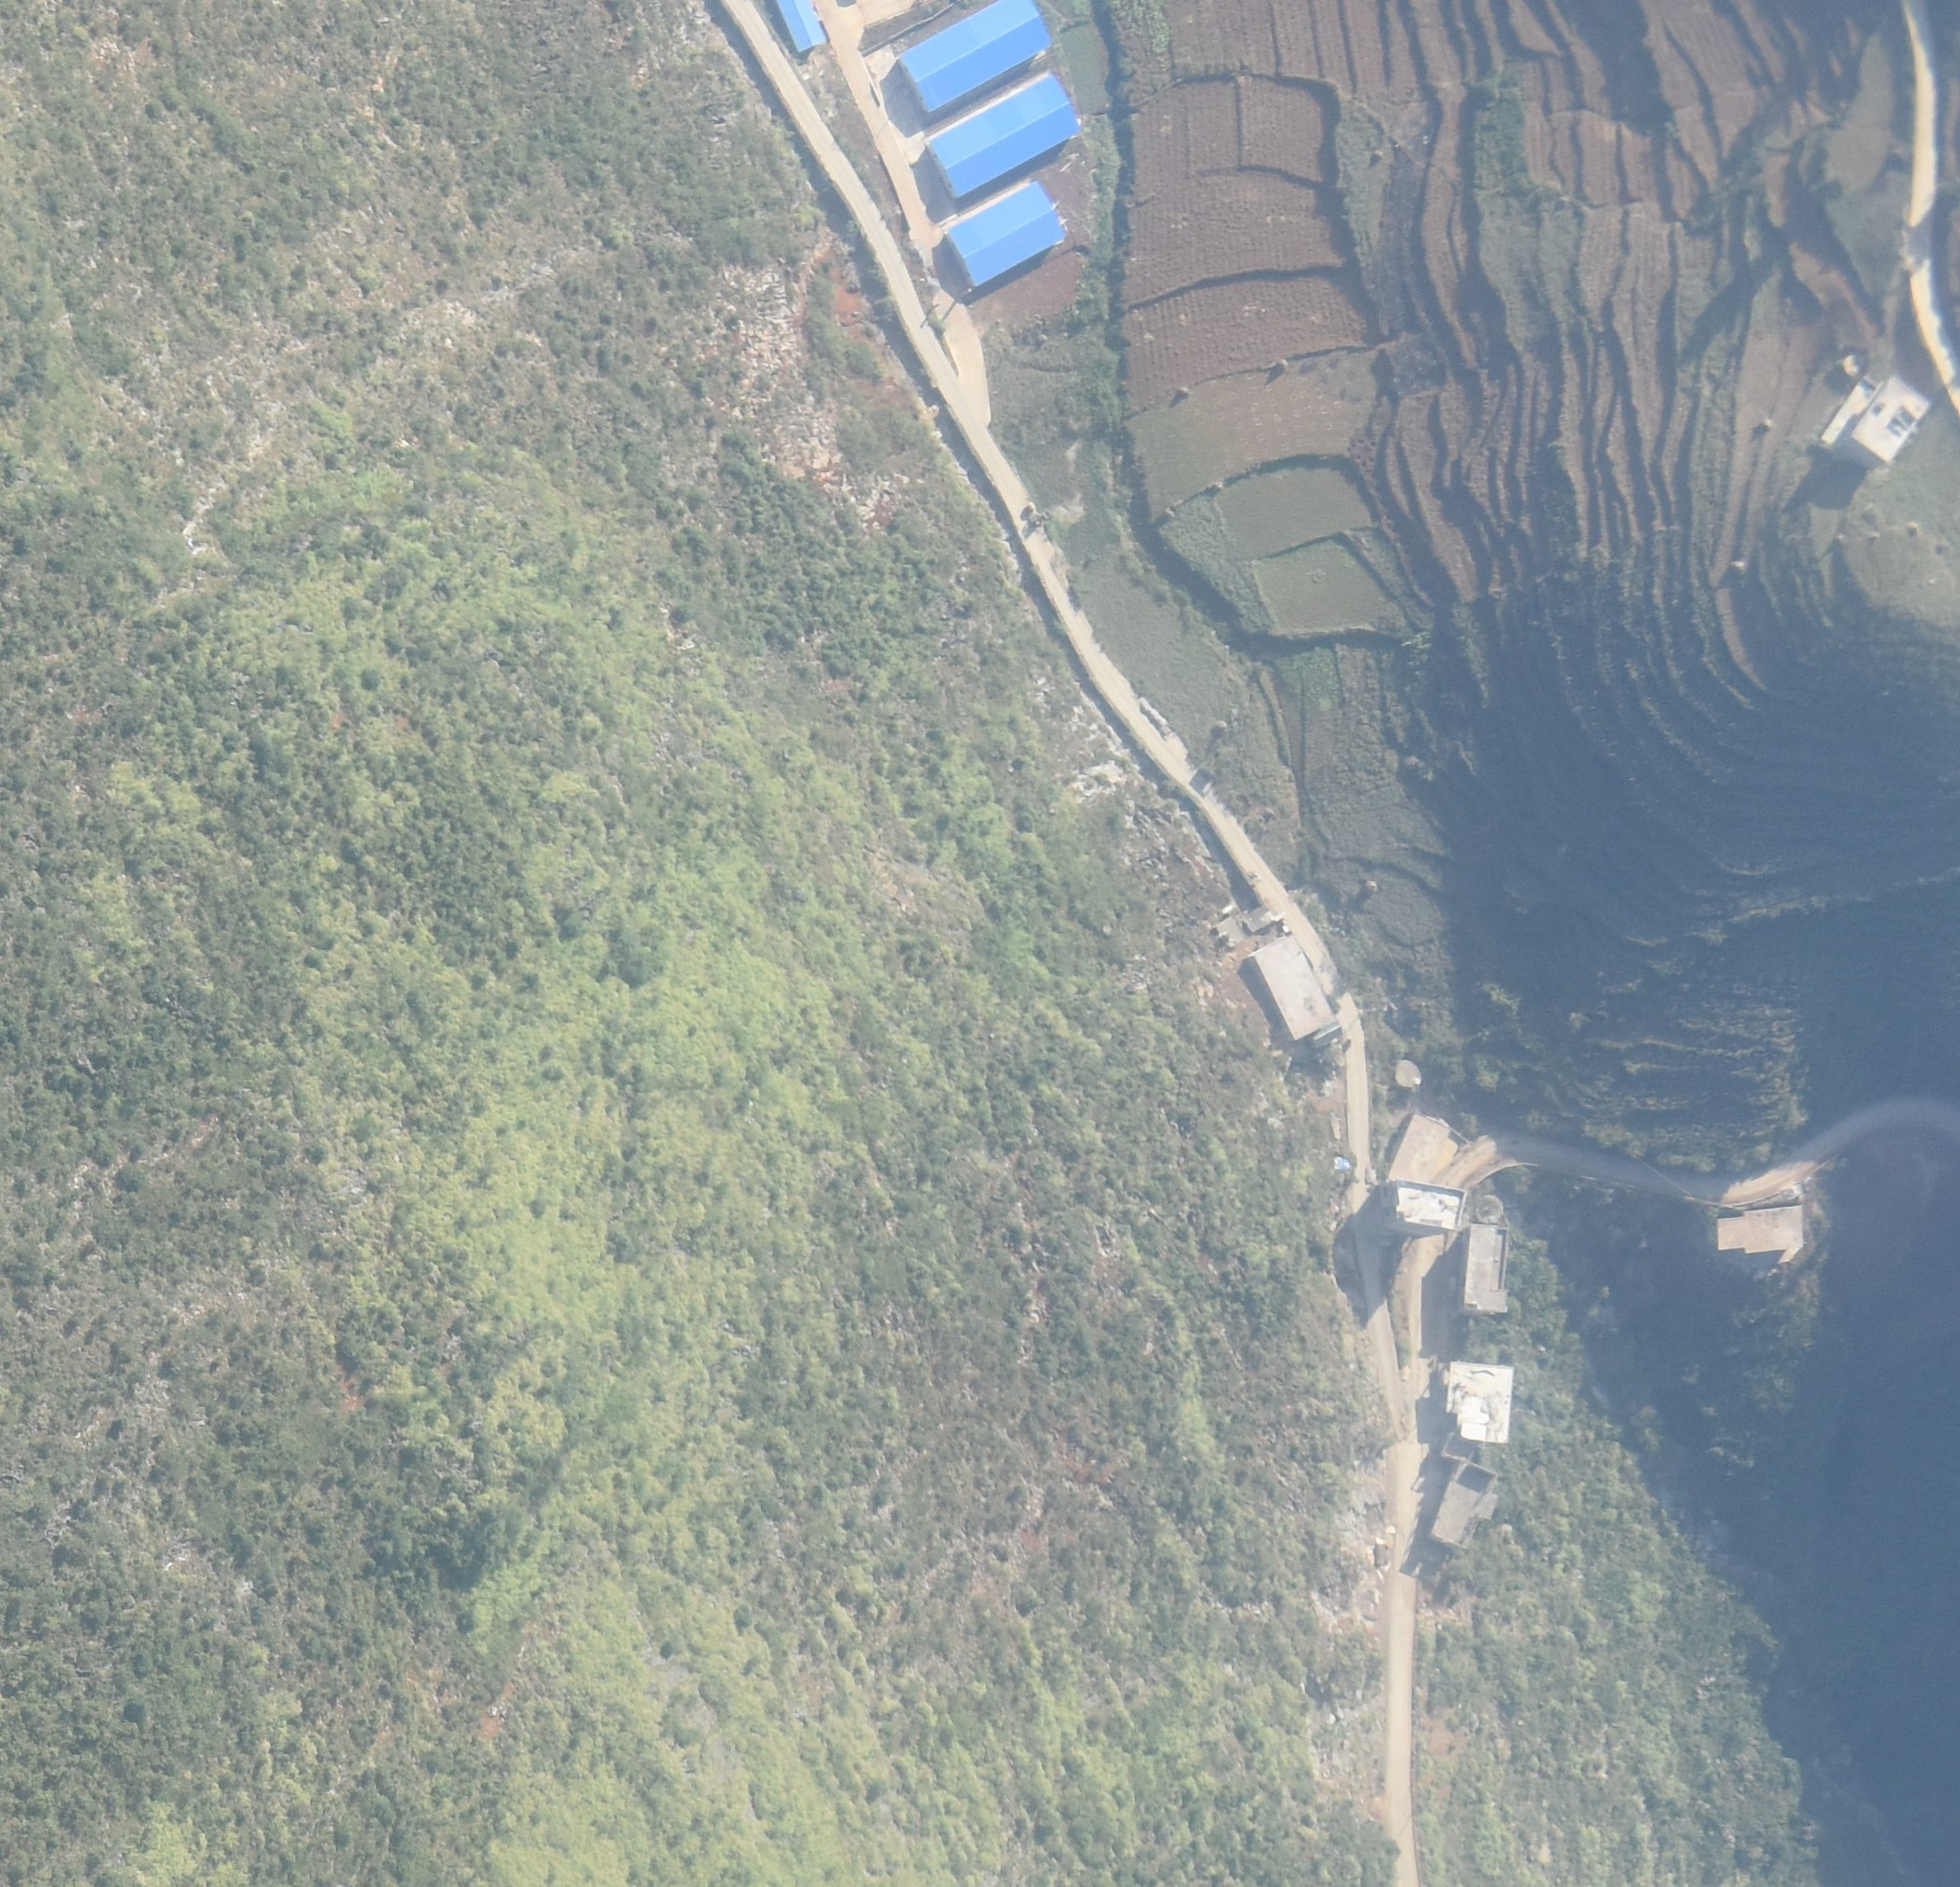building: (1814, 367, 1932, 465), (1255, 933, 1343, 1040), (1447, 1358, 1512, 1442), (1715, 1205, 1803, 1264), (1461, 1219, 1506, 1315), (1395, 1175, 1468, 1230)
prefabricated-house: (928, 77, 1085, 197), (900, 3, 1053, 113), (949, 181, 1066, 288), (773, 1, 831, 56)
well: (1475, 1195, 1504, 1224), (1394, 1062, 1423, 1089), (1842, 350, 1863, 377)
